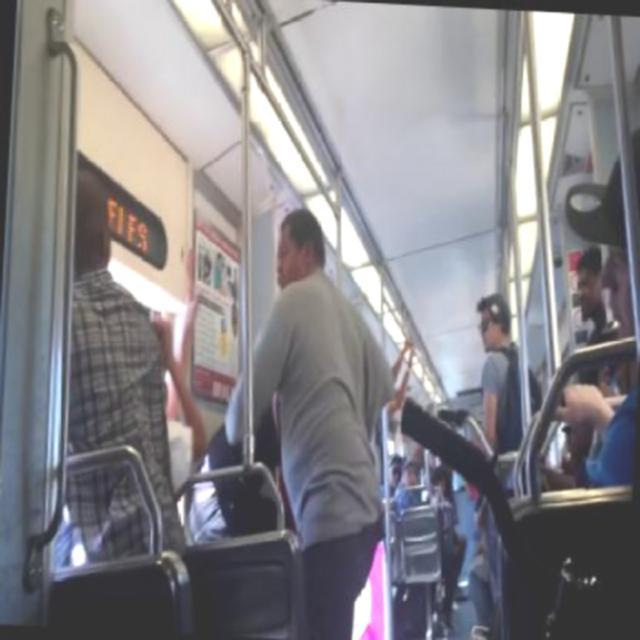fight: (163, 202, 406, 638)
non-fight: (467, 288, 547, 456)
